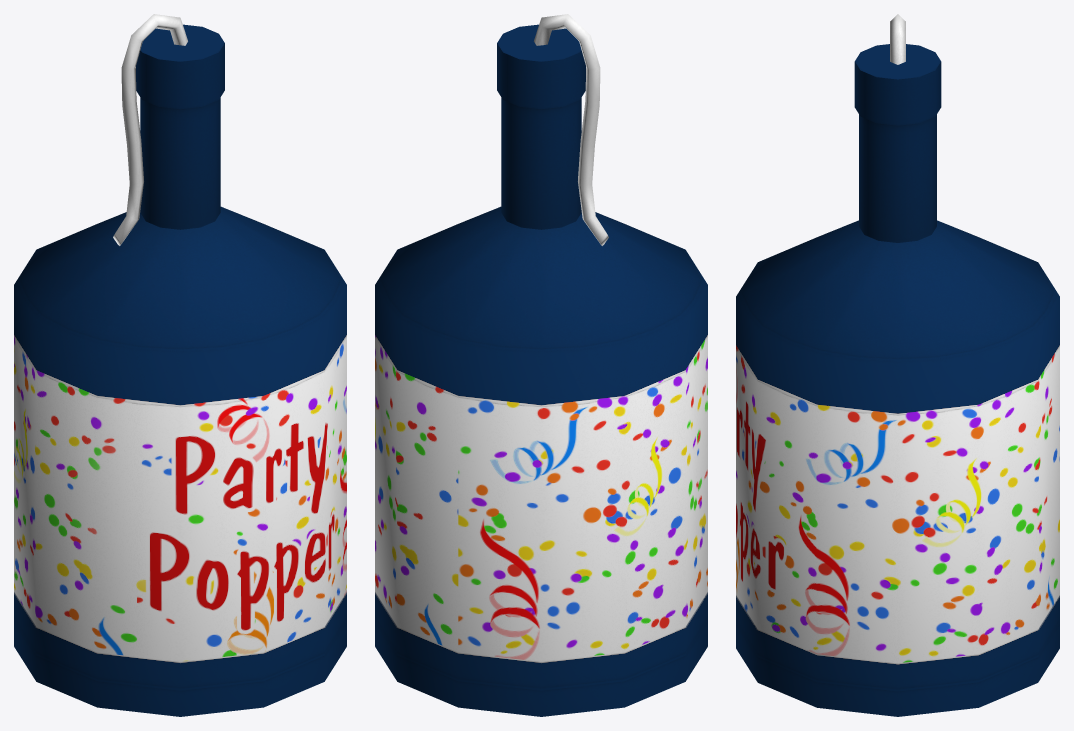
File: partypopper_01.fbx
3 views of the same model, side by side, from view 1: azimuth 30°, elevation 25°; view 2: azimuth 150°, elevation 25°; view 3: azimuth 270°, elevation 25° (orthographic). The views are drawn at different scales.
Visible parts, largest first — view 1: partypopper_01; view 2: partypopper_01; view 3: partypopper_01.
Part boxes in pixels (x1,y1,x2,y2): partypopper_01: (14,14,346,716); partypopper_01: (375,14,707,716); partypopper_01: (736,14,1059,716).
Size of the model in its own units: 9.27 by 19.64 by 9.27.
